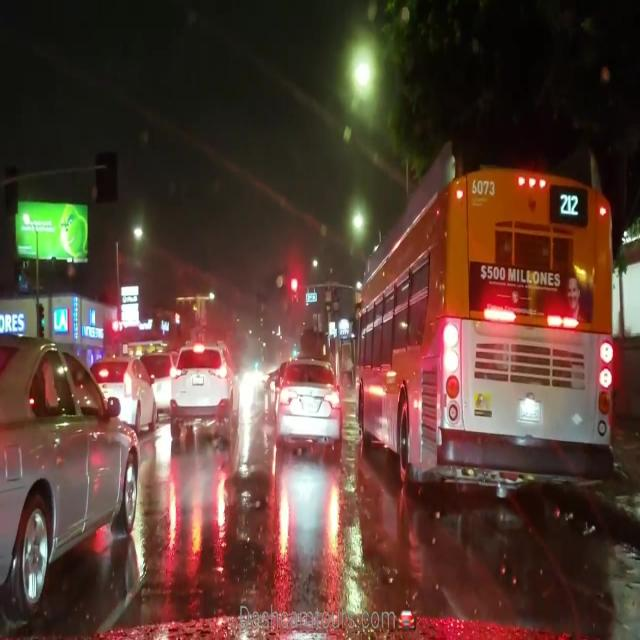Car: (3, 343, 137, 604), (275, 360, 342, 455), (166, 345, 239, 431), (89, 351, 154, 438)
